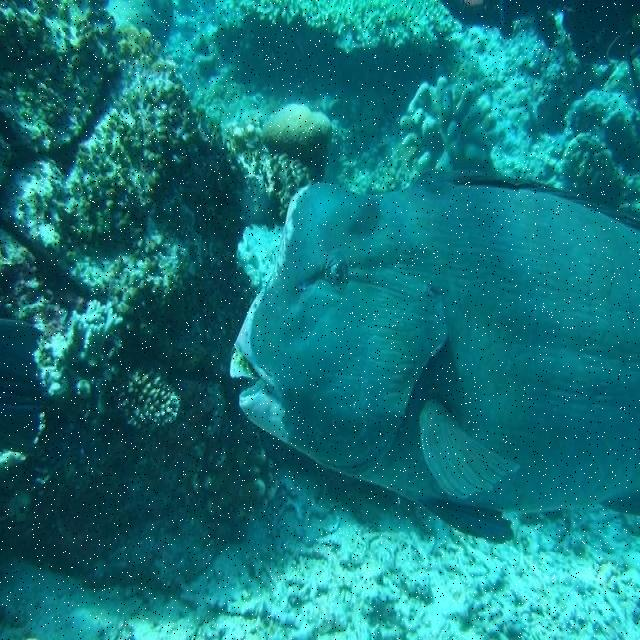fish: (230, 170, 639, 543)
reefs: (0, 1, 298, 588), (235, 0, 463, 53), (401, 75, 502, 171), (262, 104, 334, 164)
